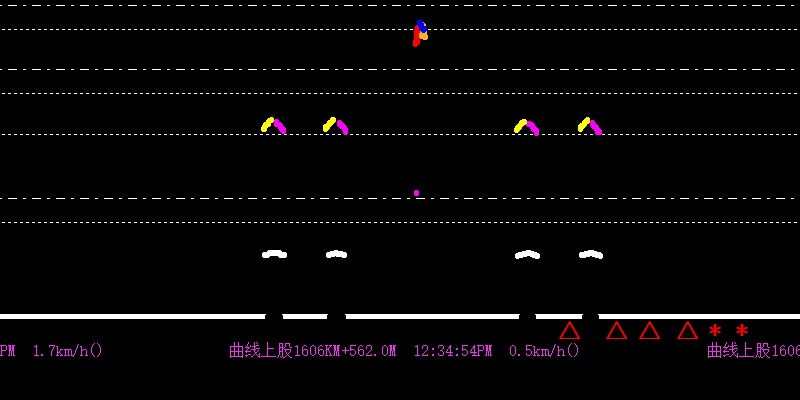L: (246, 104, 609, 280)
face_2: (412, 20, 428, 50)
star: (707, 321, 724, 338), (731, 324, 750, 337)
